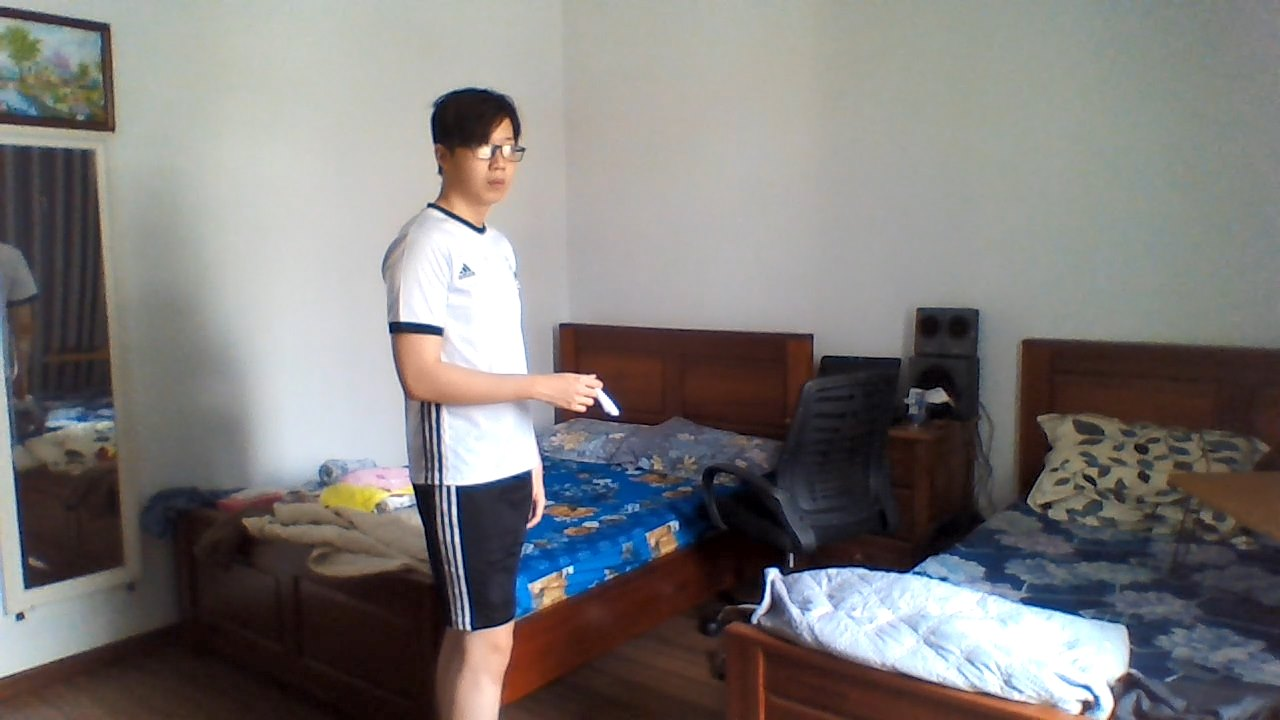cigarette: (596, 386, 620, 422)
person: (352, 73, 587, 720)
